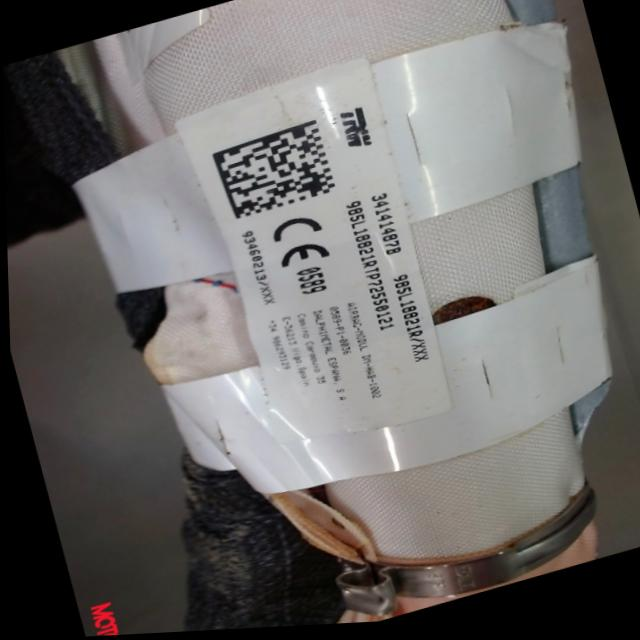datamatrix: (209, 122, 336, 226)
